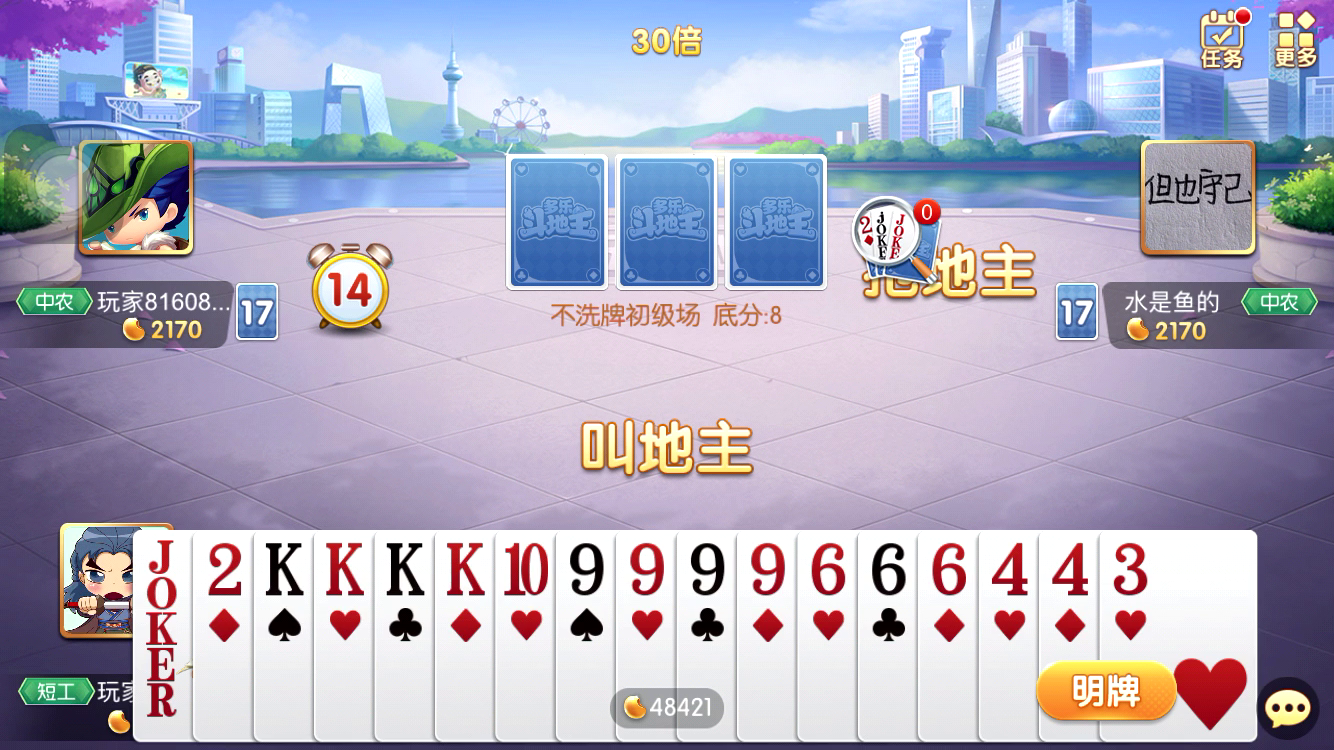JOKER: (136, 533, 187, 654)
K: (257, 537, 309, 606), (440, 535, 491, 605), (318, 536, 371, 603), (380, 535, 431, 604)
four: (1044, 537, 1095, 604), (983, 538, 1035, 603)
nine: (680, 538, 734, 606), (742, 537, 795, 606), (560, 537, 613, 606), (620, 537, 672, 604)
six: (863, 536, 916, 605), (922, 539, 975, 606), (802, 537, 853, 603)
ten: (497, 537, 552, 603)
three: (1105, 538, 1160, 603)
two: (198, 538, 250, 606)
